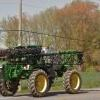Tractor: (4, 30, 89, 95)
